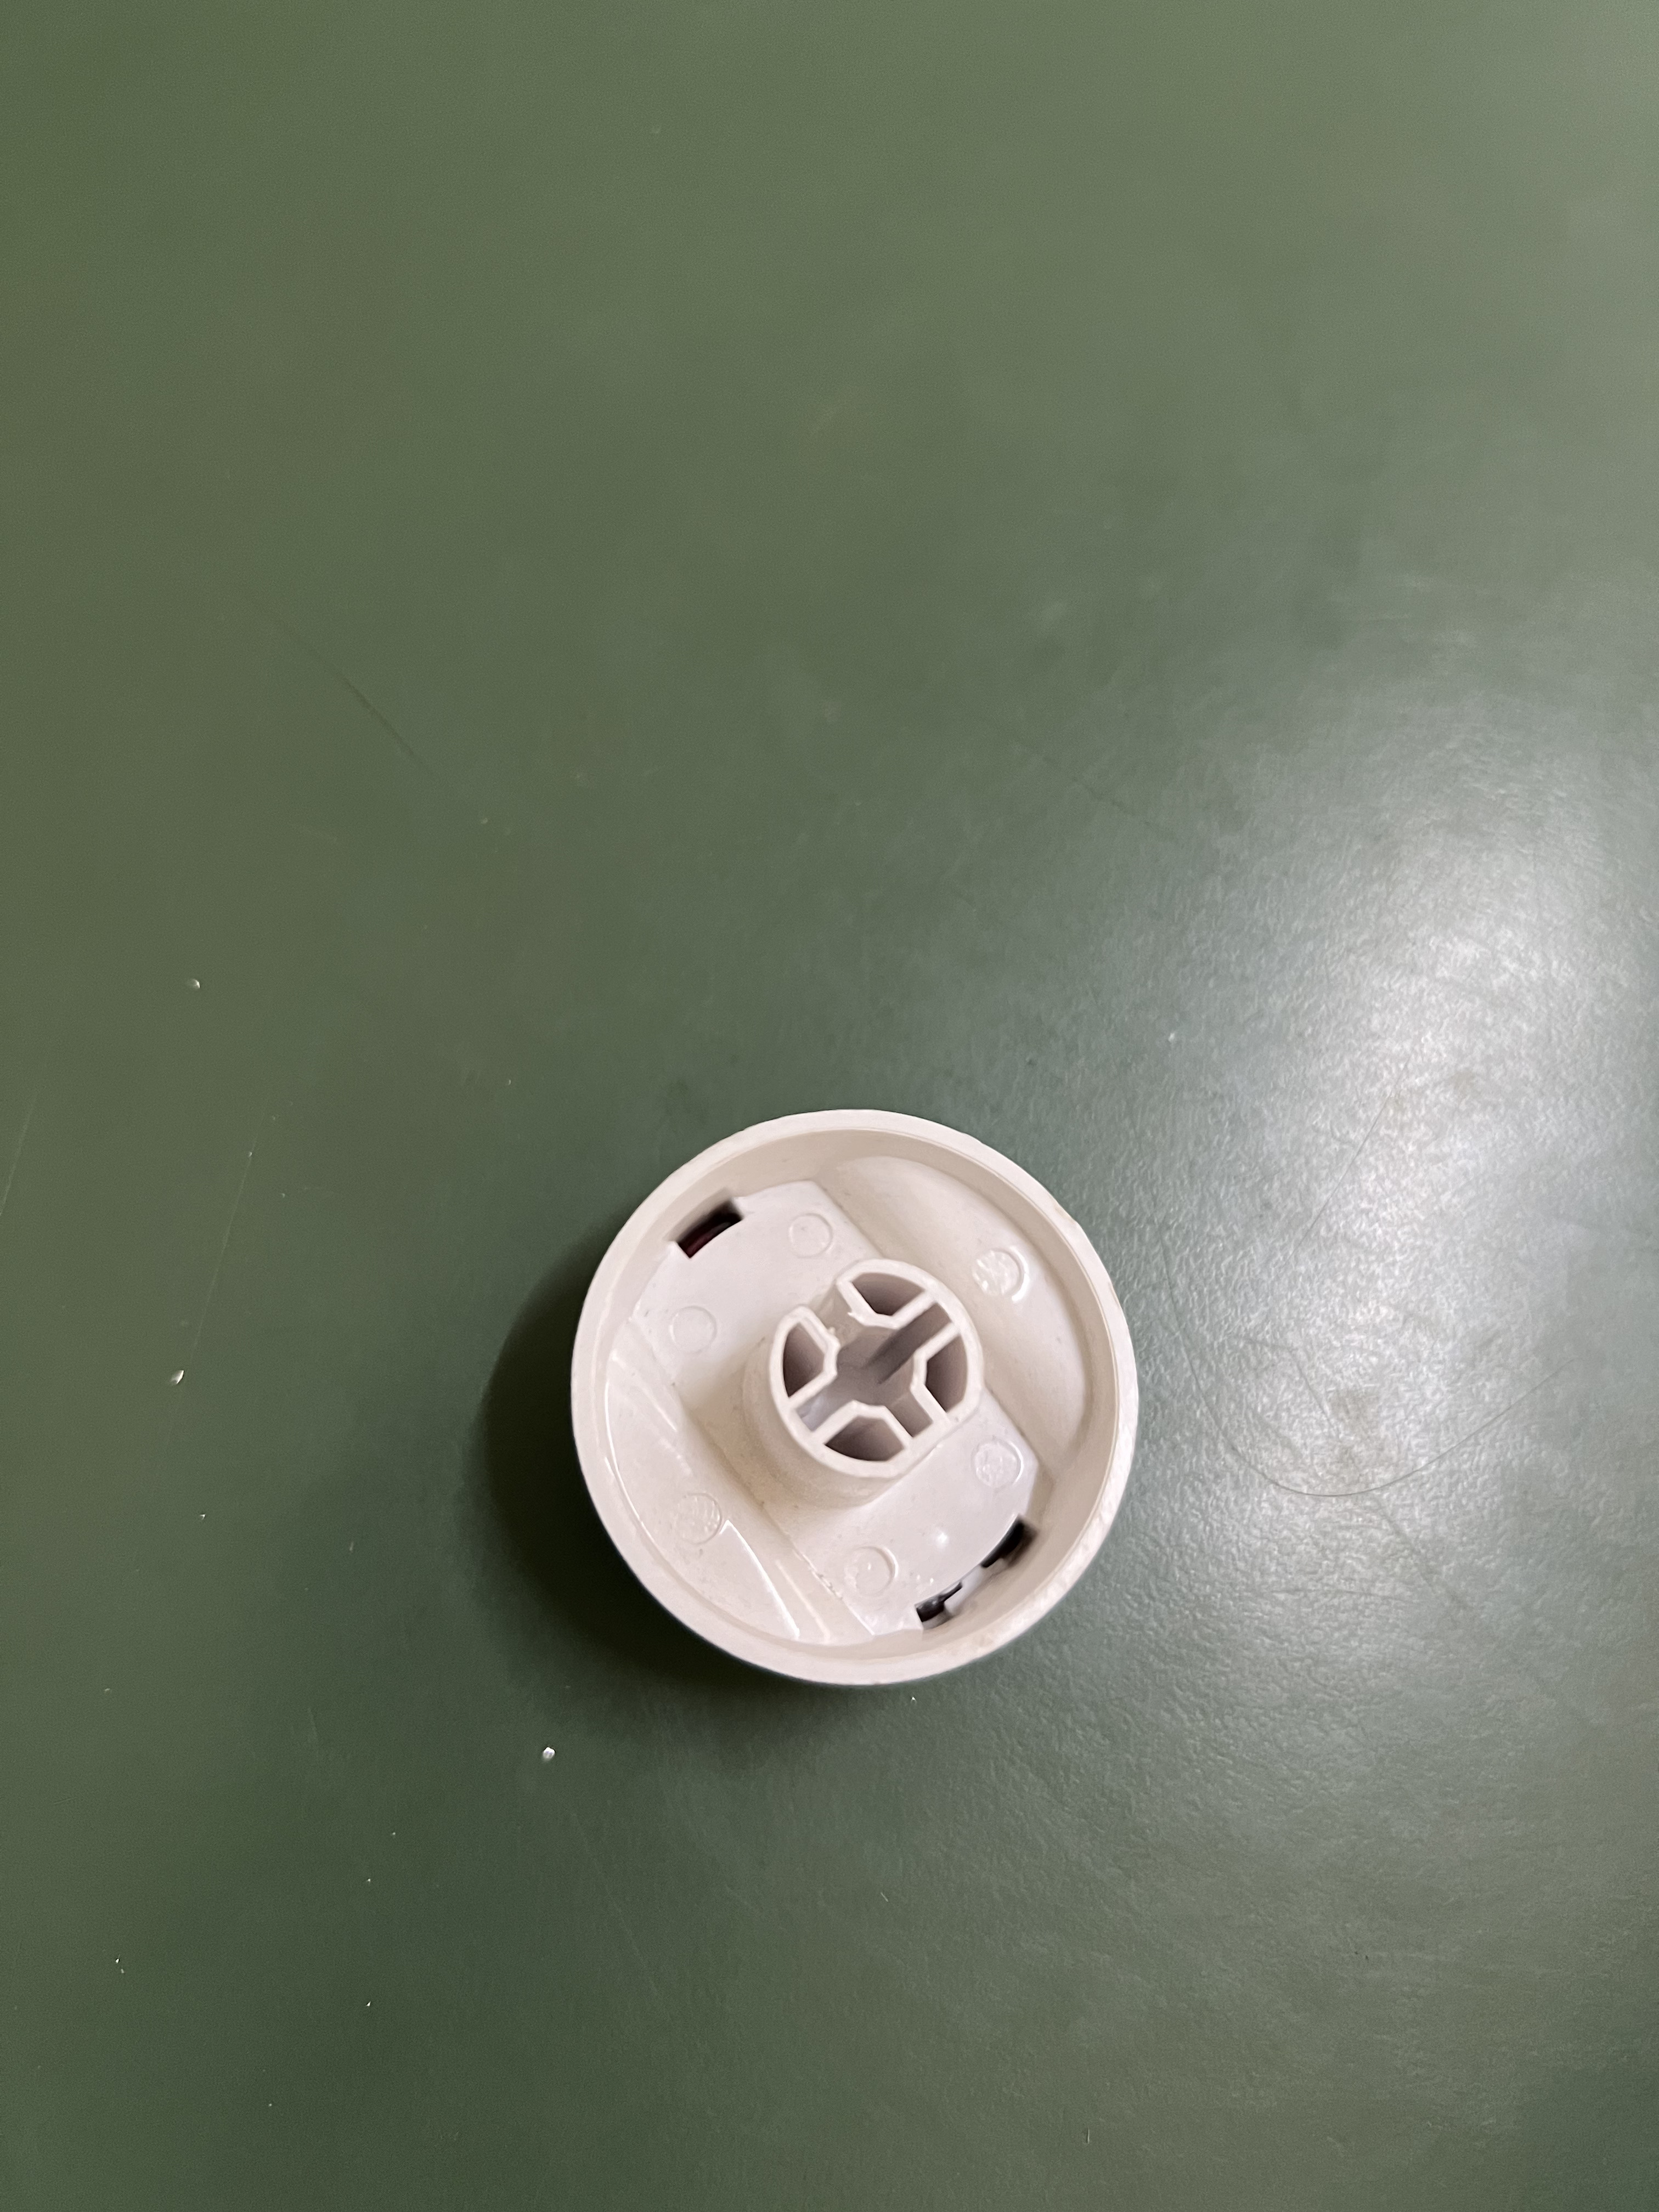regulator: (558, 1094, 1134, 1700)
